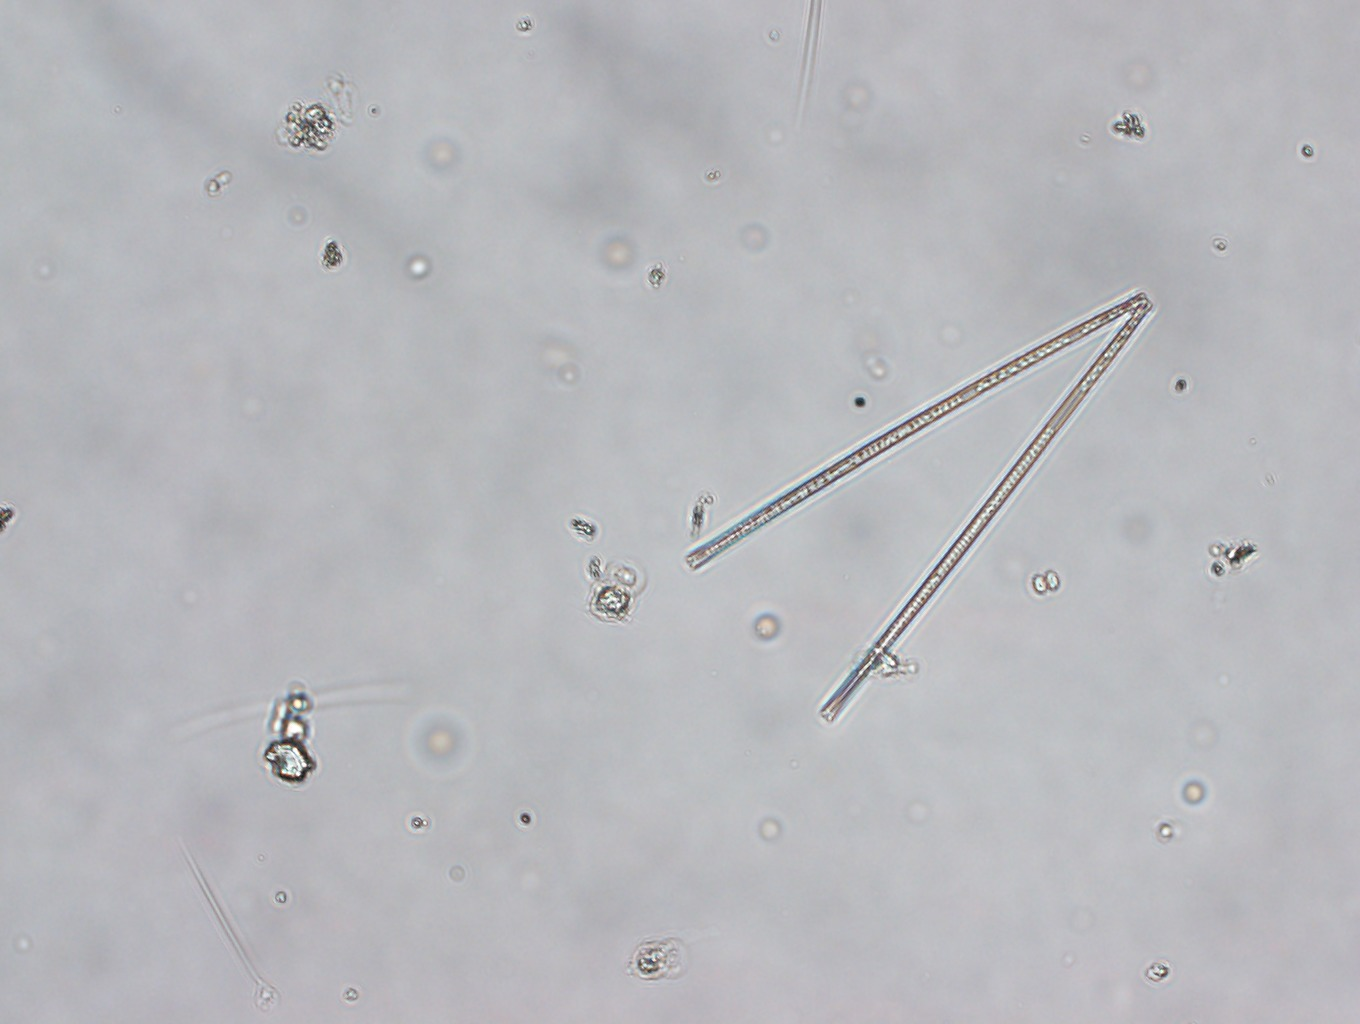thalassionema frauenfeldii: (675, 275, 1162, 729)
